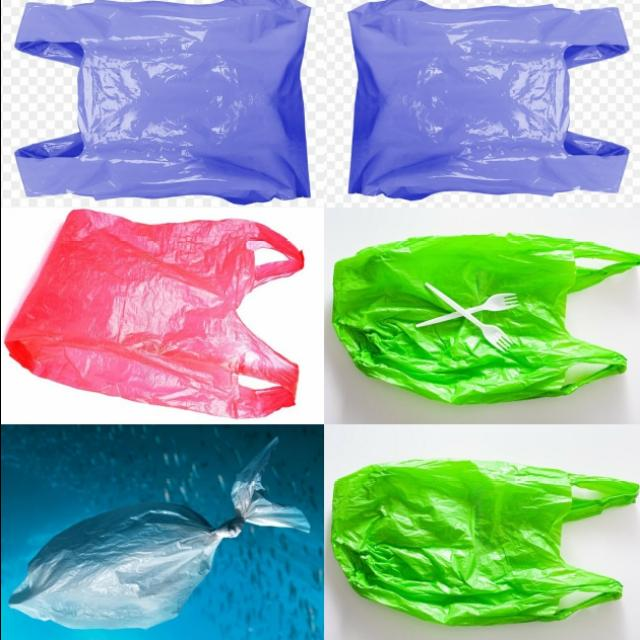plastik: (5, 211, 302, 419), (14, 0, 309, 204), (8, 438, 309, 628), (348, 0, 628, 200), (333, 233, 640, 405), (332, 461, 638, 626), (427, 284, 508, 352), (465, 293, 517, 313)
